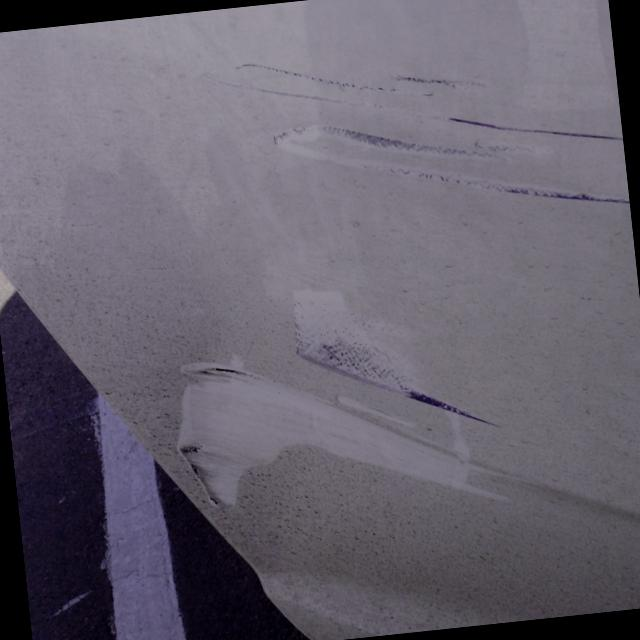Rayure: (186, 6, 632, 267), (161, 318, 527, 551), (267, 262, 502, 455)
